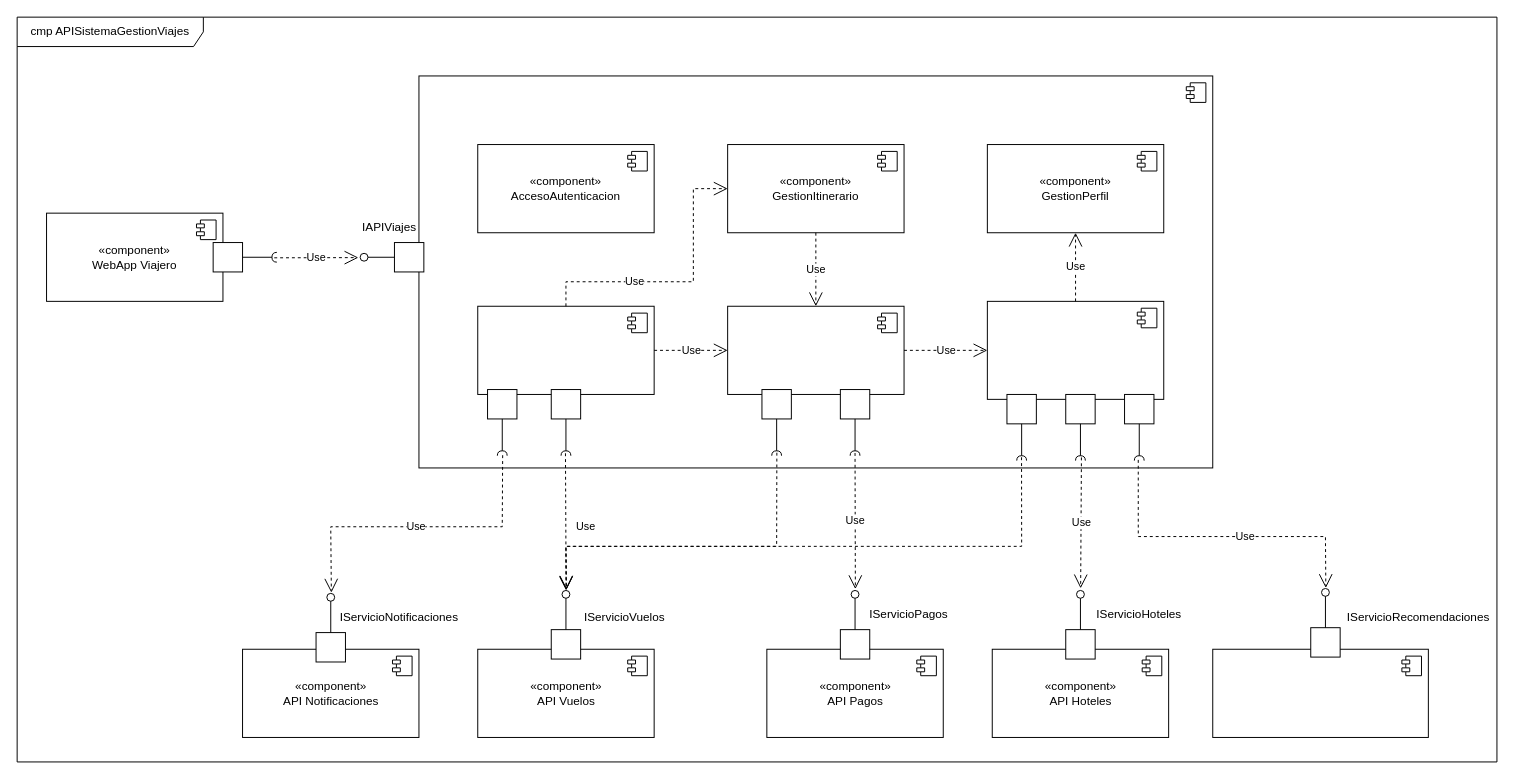
This 1514x779 diagram has some shape labels left out. Each missing label, with the box of its shape:
<<component>> API Recomendaciones IA <<independiente del SOA principal>>: (1212, 648, 1428, 737)
«component» API SistemaGestionViajes: (418, 75, 1213, 468)
«component» GestionAlertas: (477, 305, 654, 394)
«component» PlanificacionViaje: (986, 300, 1164, 399)
«component» ReservaPago: (727, 305, 904, 394)
